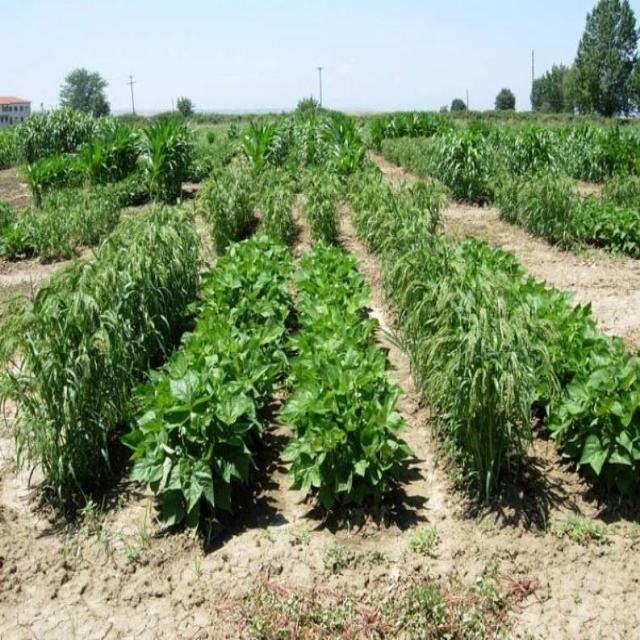row: (88, 195, 268, 529), (339, 197, 468, 508), (215, 192, 319, 535)
